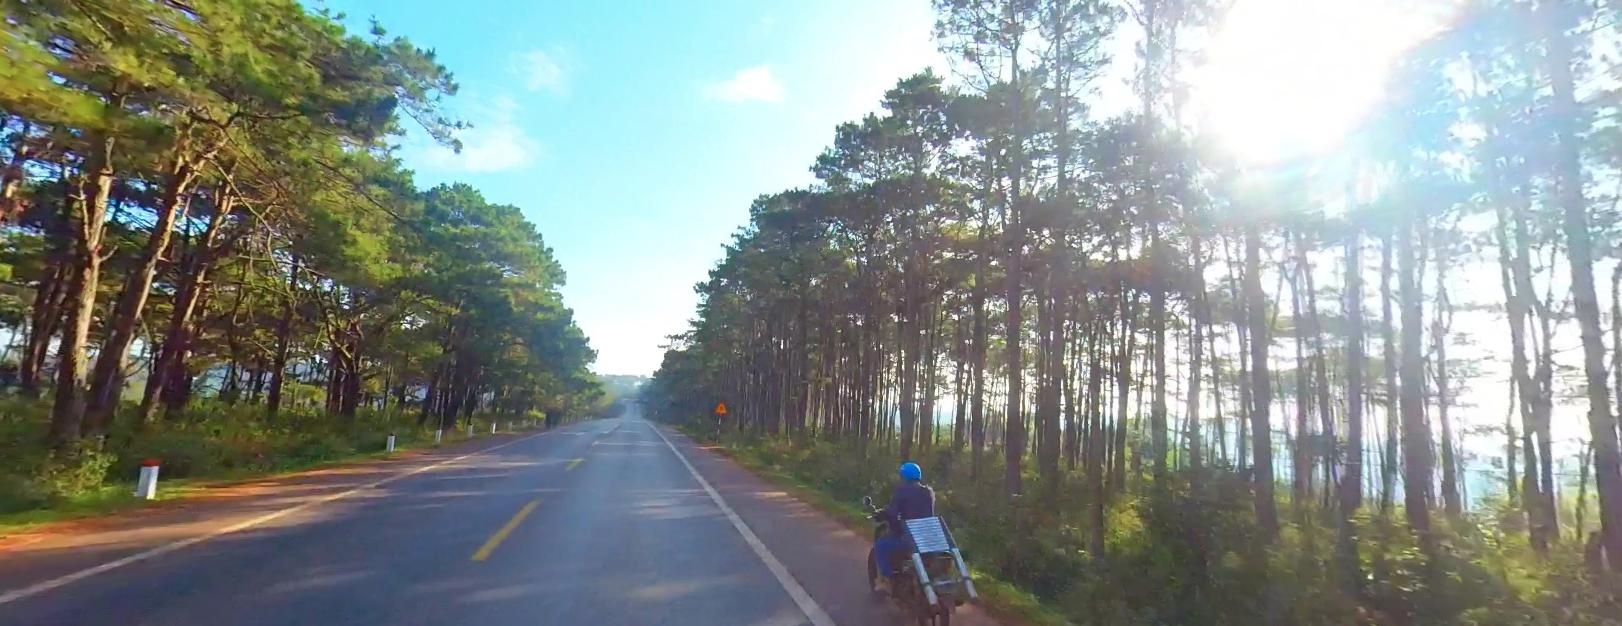Nguy hiem: (714, 398, 727, 412)
